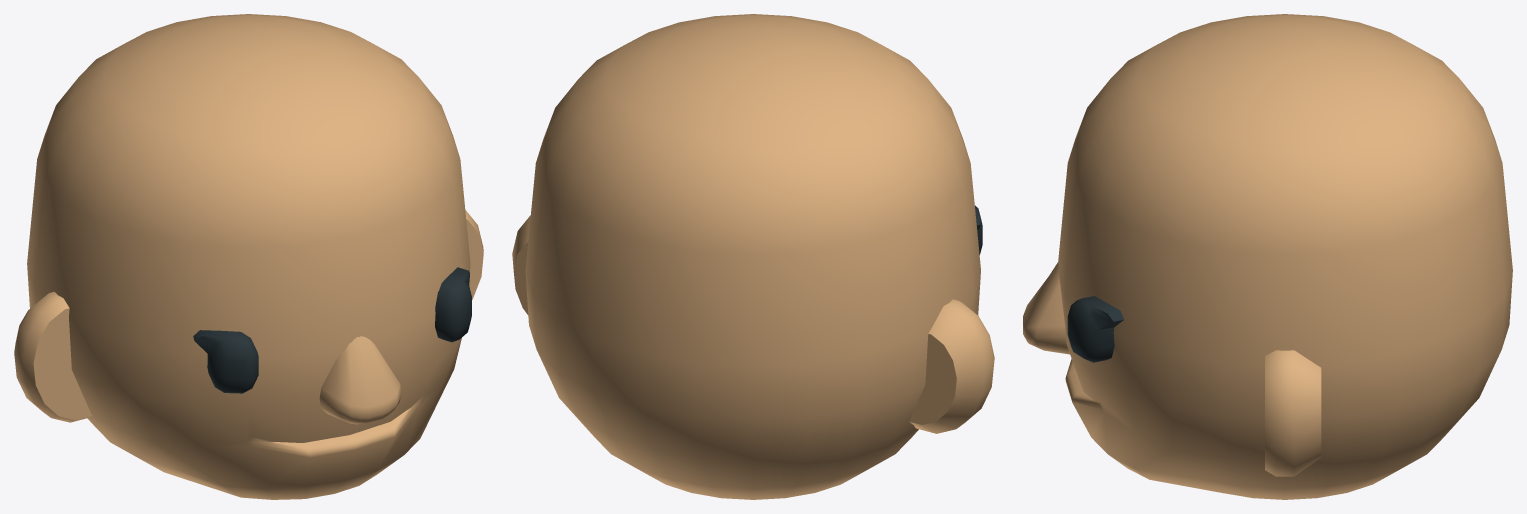
File: rogueHeadC.fbx
3 views of the same model, side by side, from view 1: azimuth 30°, elevation 25°; view 2: azimuth 150°, elevation 25°; view 3: azimuth 270°, elevation 25° (orthographic). The views are drawn at different scales.
Visible parts, largest first — view 1: rogueHeadC; view 2: rogueHeadC; view 3: rogueHeadC.
Boxes of the visible parts, box(x1,y1,x2,y2) form: rogueHeadC: box(14, 14, 483, 499); rogueHeadC: box(512, 14, 994, 499); rogueHeadC: box(1023, 14, 1512, 499).
Bounding box in the file's own units: 1.18 × 0.9703 × 1.05.
